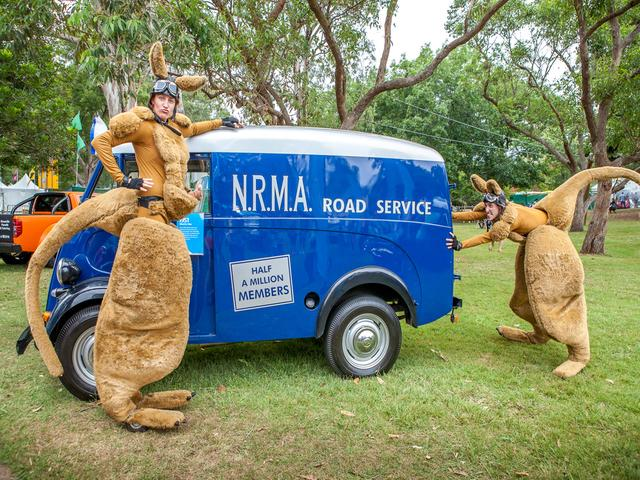kangaroo: (54, 40, 223, 450), (442, 142, 626, 410)
